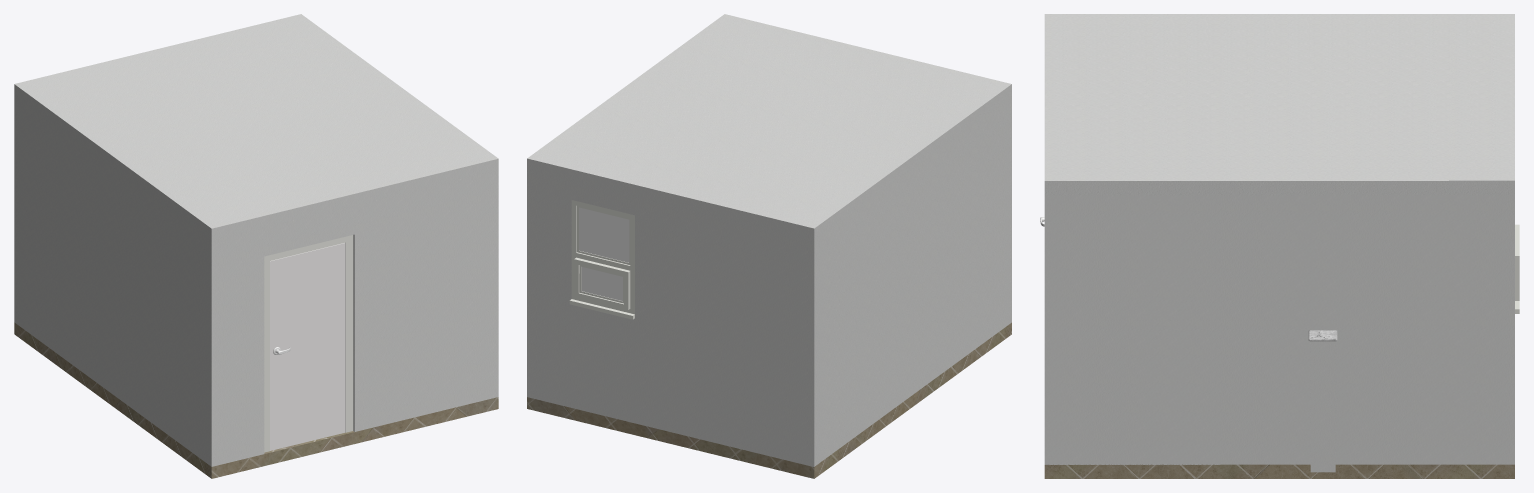
The model's file is FloorPlan414_physics.fbx.
3 renders of one model, left to right at view 1: azimuth 30°, elevation 25°; view 2: azimuth 150°, elevation 25°; view 3: azimuth 270°, elevation 25°, orthographic. The views are drawn at different scales.
Visible parts, largest first — view 1: FP414:Walls, FP414:Ceiling, FP414:Door.009, FP414:Floor, FP414:DoorFrame.009; view 2: FP414:Walls, FP414:Ceiling, FP414:Floor, FP414:polySurface78, FP414:polySurface77; view 3: FP414:Walls, FP414:Ceiling, FP414:Floor, FP414:Cube.1890.
Boxes of the visible parts, bbox=[...] form: FP414:Walls: bbox=[14, 96, 498, 466]; FP414:Ceiling: bbox=[14, 14, 498, 240]; FP414:Door.009: bbox=[270, 243, 345, 450]; FP414:Floor: bbox=[14, 322, 498, 478]; FP414:DoorFrame.009: bbox=[264, 235, 353, 452]; FP414:Walls: bbox=[527, 96, 1011, 466]; FP414:Ceiling: bbox=[527, 14, 1011, 240]; FP414:Floor: bbox=[527, 322, 1011, 478]; FP414:polySurface78: bbox=[569, 200, 634, 319]; FP414:polySurface77: bbox=[579, 207, 629, 300]; FP414:Walls: bbox=[1044, 194, 1514, 464]; FP414:Ceiling: bbox=[1044, 14, 1514, 195]; FP414:Floor: bbox=[1044, 464, 1514, 478]; FP414:Cube.1890: bbox=[1308, 330, 1337, 472].
Size of the model in its own units: 335 by 265 by 386.
